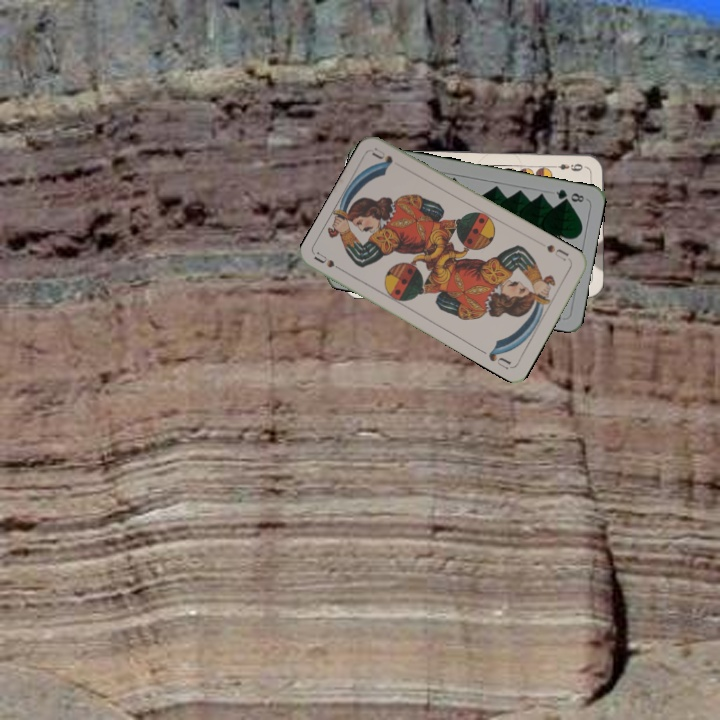E9: (547, 159, 588, 173)
G8: (552, 185, 587, 205)
SU: (311, 249, 350, 276), (542, 240, 573, 264)
